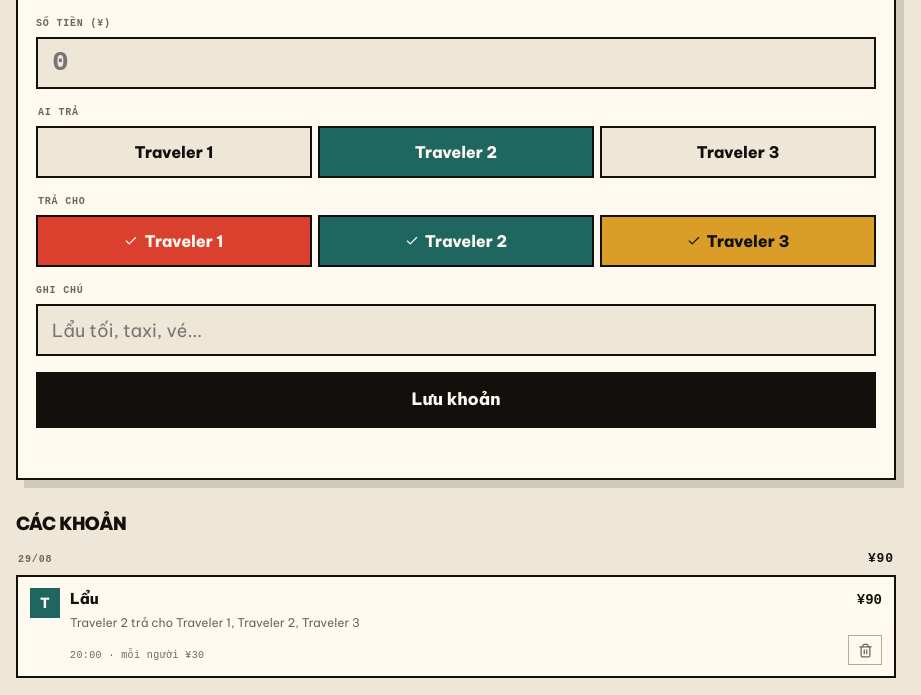
Test: ExpenseBoard › asks twice before deleting
(page scrolled)
What coordinates should you click on to do the following:
click the button named "Xoá"
I would click on:
 (865, 650)
Its box is x1=848 y1=635 x2=882 y2=665.
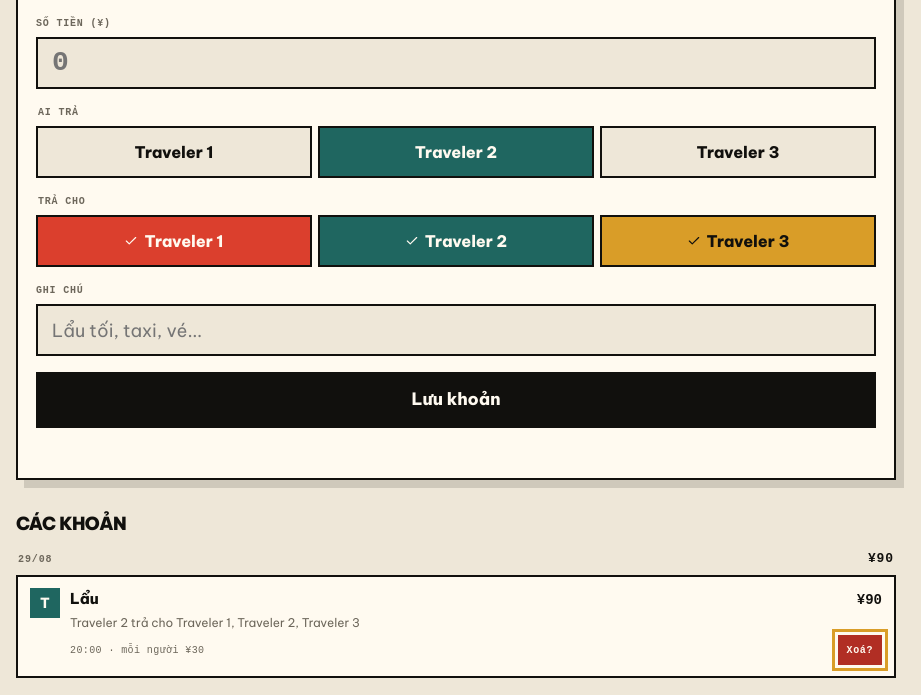
What coordinates should you click on to do the following:
click the button "Xoá?"
I would click on:
 (860, 650)
Its box is x1=838 y1=635 x2=882 y2=665.
(page scrolled)
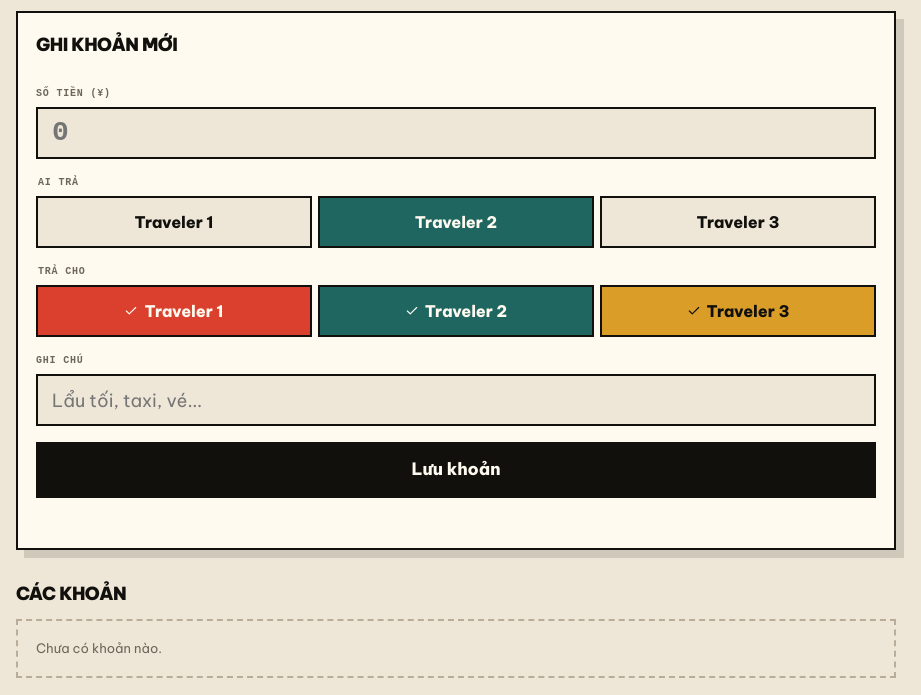
Expected: the text "Chưa có khoản nào." is shown, x1=16 y1=619 x2=896 y2=678
